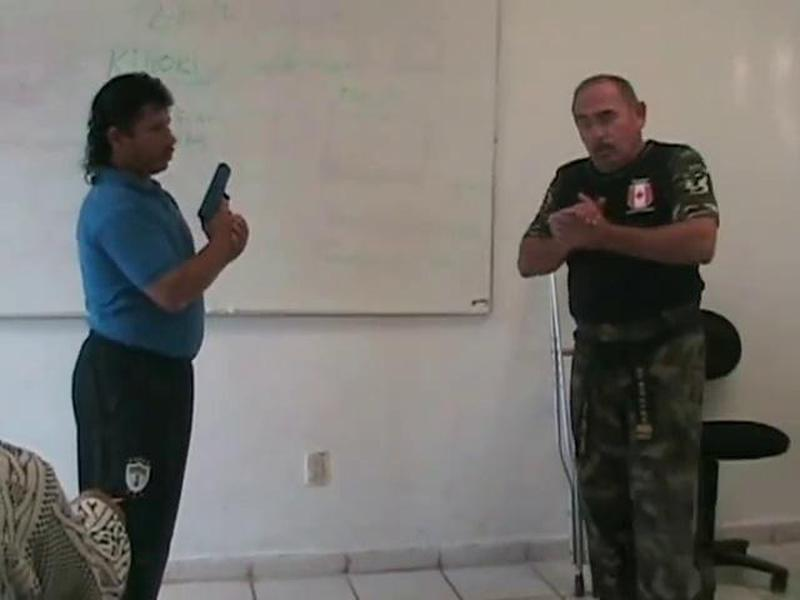Pistola: (195, 154, 233, 227)
